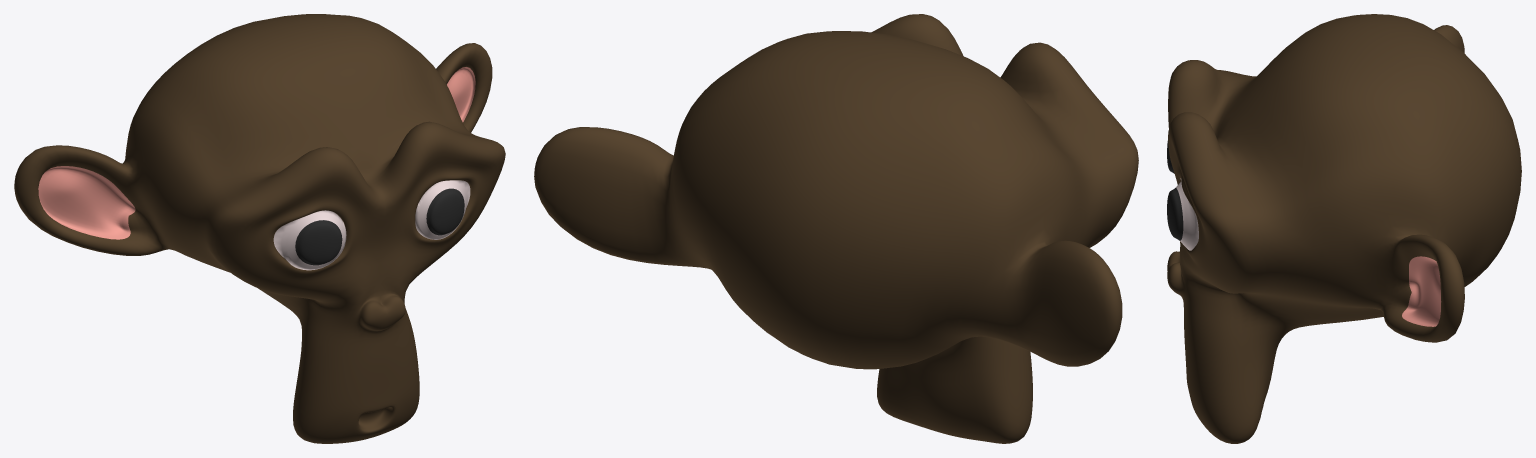
File: Suzanne.glb
3 views of the same model, side by side, from view 1: azimuth 30°, elevation 25°; view 2: azimuth 150°, elevation 25°; view 3: azimuth 270°, elevation 25° (orthographic). The views are drawn at different scales.
Visible parts, largest first — view 1: Suzanne; view 2: Suzanne; view 3: Suzanne.
Boxes of the visible parts, x1,y1,x2,y2 form: Suzanne: (14,14,505,443); Suzanne: (534,14,1138,443); Suzanne: (1167,14,1521,443).
Size of the model in its own units: 2.66 by 1.91 by 1.6.
